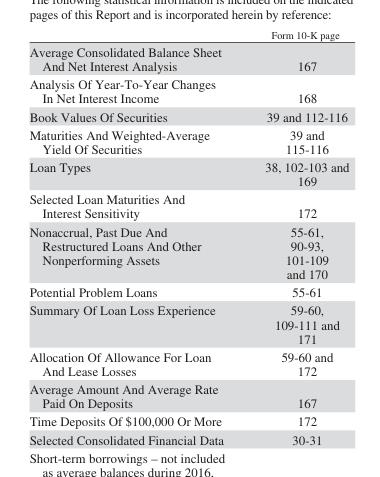table: (28, 28, 348, 446)
table column: (28, 28, 243, 446), (243, 28, 348, 446)
table column header: (28, 28, 348, 42)
table row: (28, 222, 348, 282), (28, 300, 348, 347), (28, 74, 348, 107), (28, 189, 348, 222), (28, 379, 348, 412), (28, 42, 348, 74), (28, 125, 348, 157), (28, 157, 348, 189), (28, 347, 348, 379), (28, 107, 348, 125), (28, 282, 348, 300), (28, 412, 348, 430), (28, 430, 348, 446), (28, 28, 348, 42)
